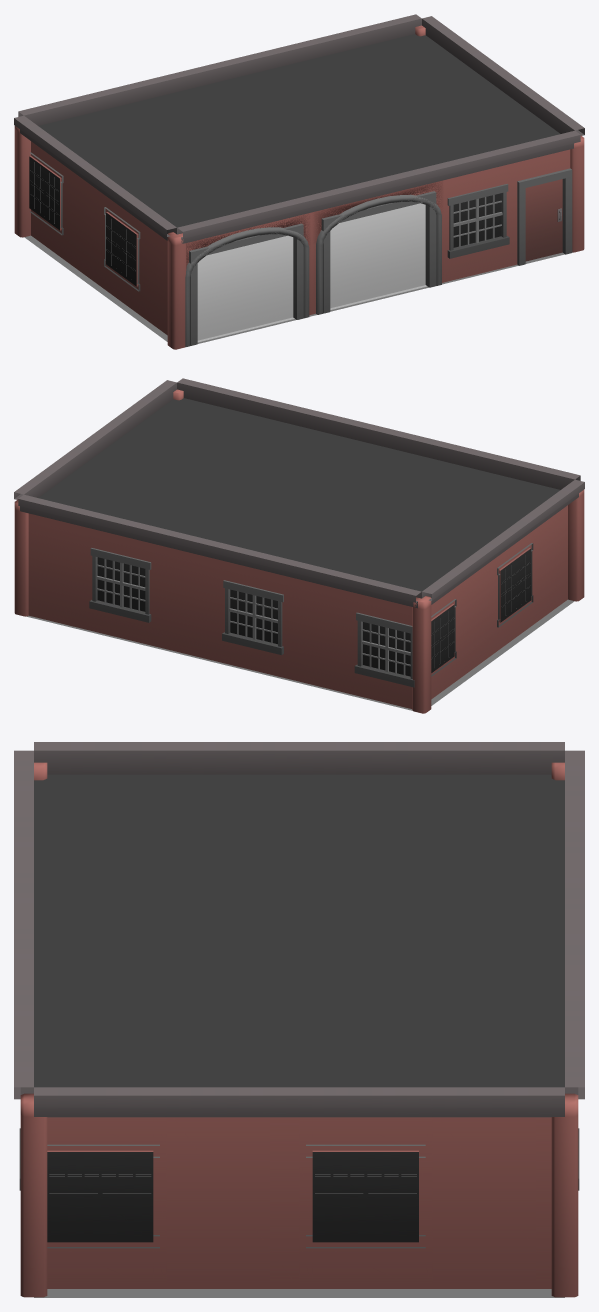
The model's file is transformer-works.glb.
3 renders of one model, top to bottom at view 1: azimuth 30°, elevation 25°; view 2: azimuth 150°, elevation 25°; view 3: azimuth 270°, elevation 25°, orthographic. The views are drawn at different scales.
Parts seen in each view (by area): view 1: TreyIndustrialTransformerWorksVisual; view 2: TreyIndustrialTransformerWorksVisual; view 3: TreyIndustrialTransformerWorksVisual.
Part boxes in pixels (x1,y1,x2,y2): TreyIndustrialTransformerWorksVisual: (14,14,584,349); TreyIndustrialTransformerWorksVisual: (14,378,584,713); TreyIndustrialTransformerWorksVisual: (14,742,584,1297).
Size of the model in its own units: 12.6 by 3.5 by 8.6.
1 material, 1 textured.
